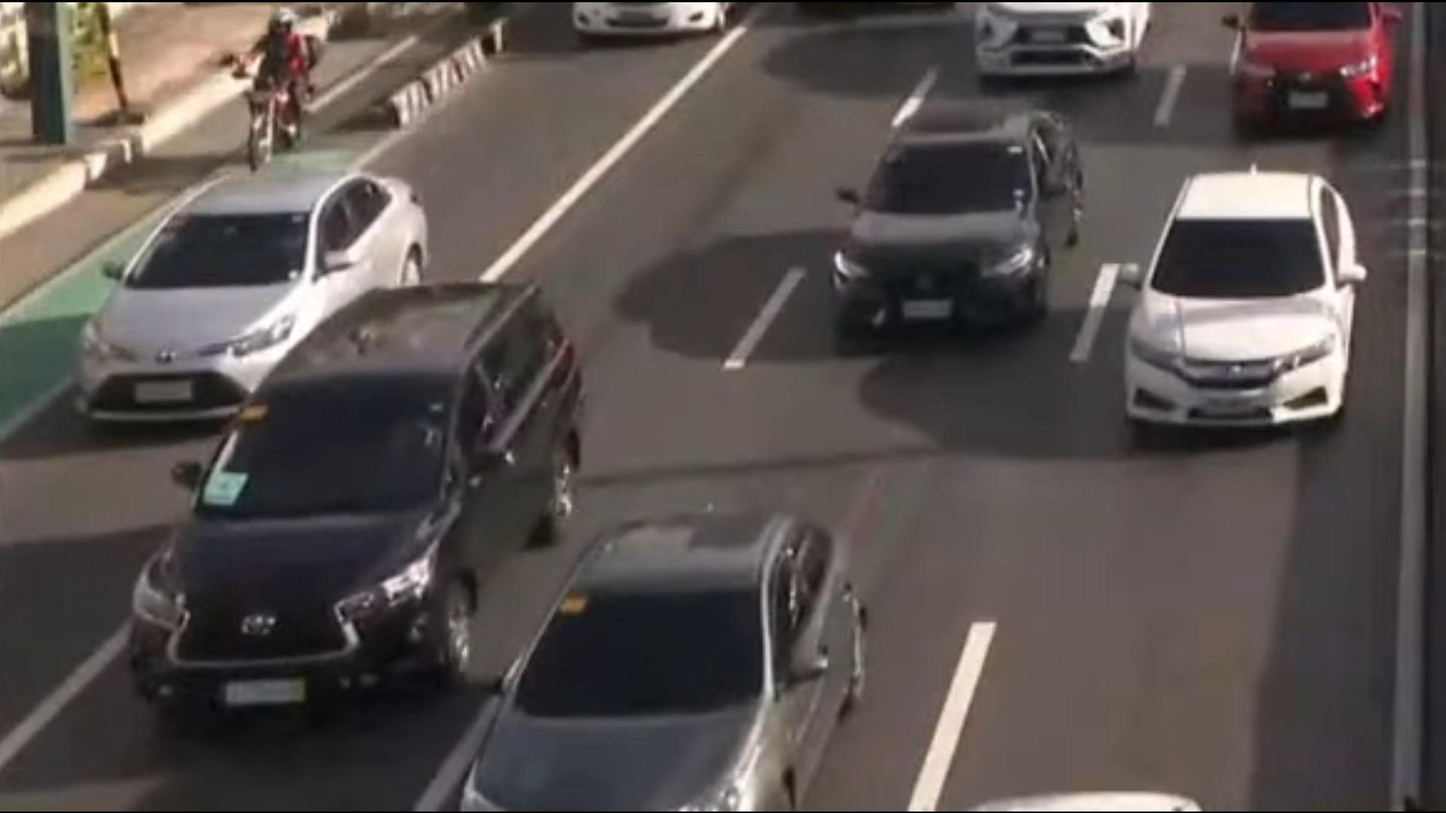Motorcycle: (220, 4, 328, 167)
SUV: (119, 280, 567, 713)
Sedan: (456, 506, 877, 813), (72, 167, 427, 437), (1122, 160, 1358, 427), (830, 105, 1073, 326), (1224, 0, 1384, 124)
